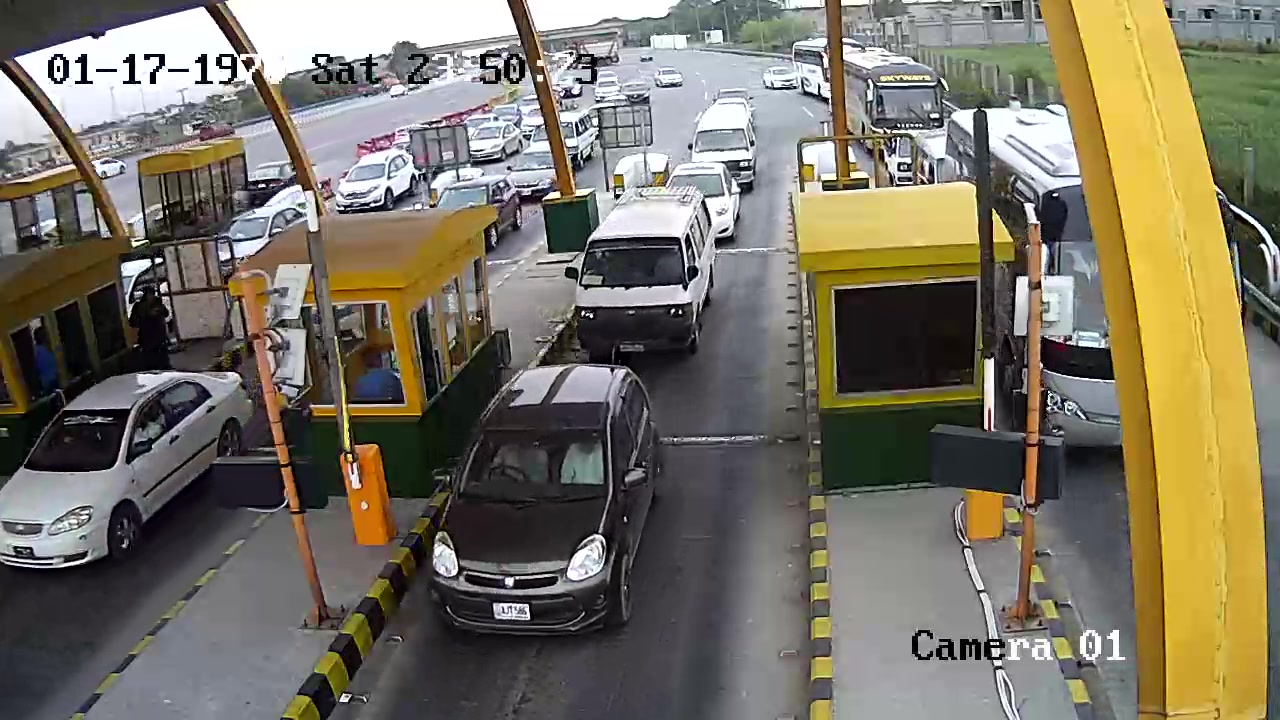F2: (566, 179, 725, 359)
